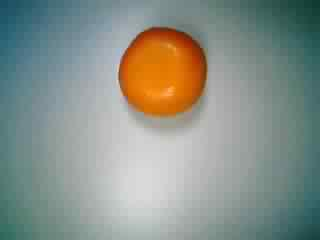orange: (112, 23, 208, 119)
